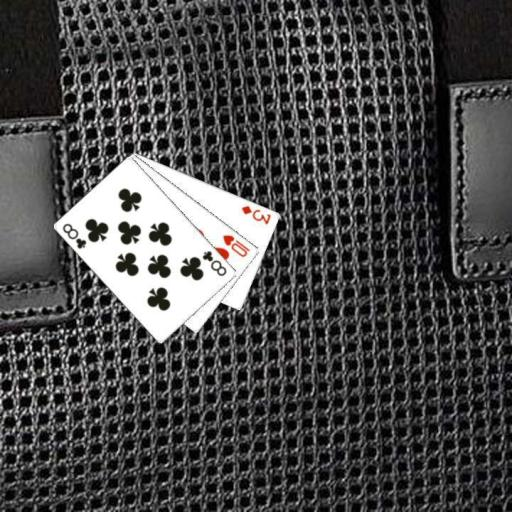card-corner: (199, 248, 228, 278), (220, 232, 252, 259), (60, 220, 88, 250), (238, 202, 272, 226)
